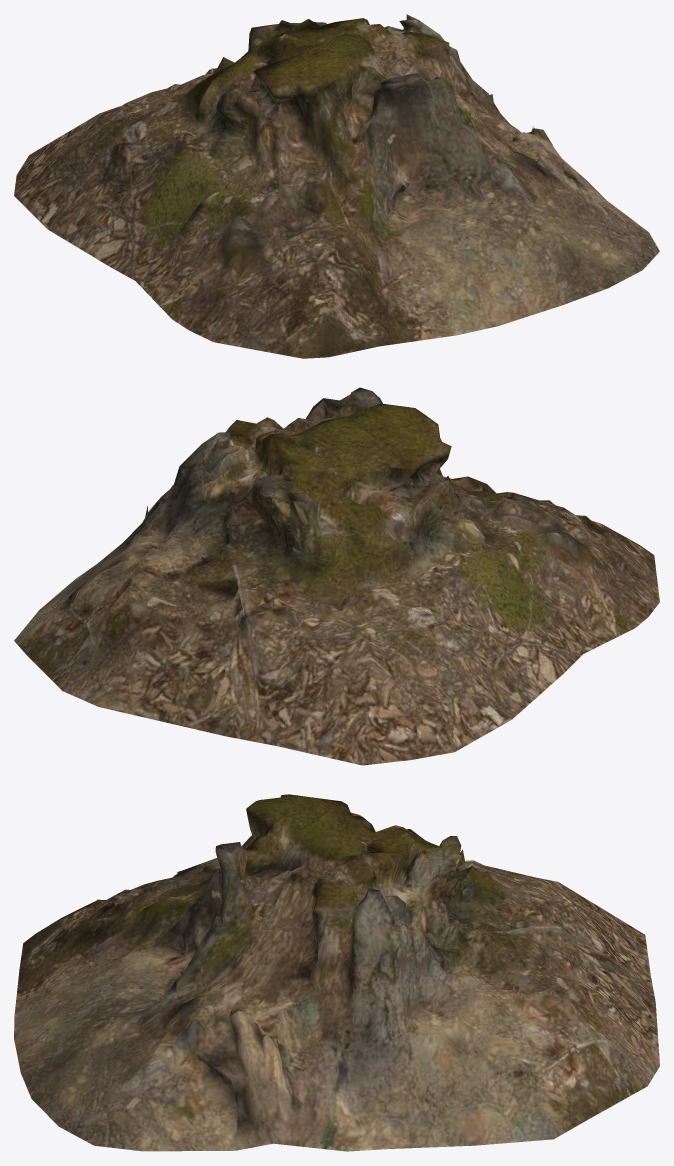
File: tree_stump_01.glb
3 renders of one model, top to bottom at view 1: azimuth 30°, elevation 25°; view 2: azimuth 150°, elevation 25°; view 3: azimuth 270°, elevation 25°, orthographic. The views are drawn at different scales.
Visible parts, largest first — view 1: tree_stump_01; view 2: tree_stump_01; view 3: tree_stump_01.
Part boxes in pixels (<box>): tree_stump_01: <box>14,14,659,358</box>; tree_stump_01: <box>14,387,659,765</box>; tree_stump_01: <box>14,794,659,1151</box>.
Size of the model in its own units: 1.43 by 0.5687 by 1.59.
1 material, 1 textured.
